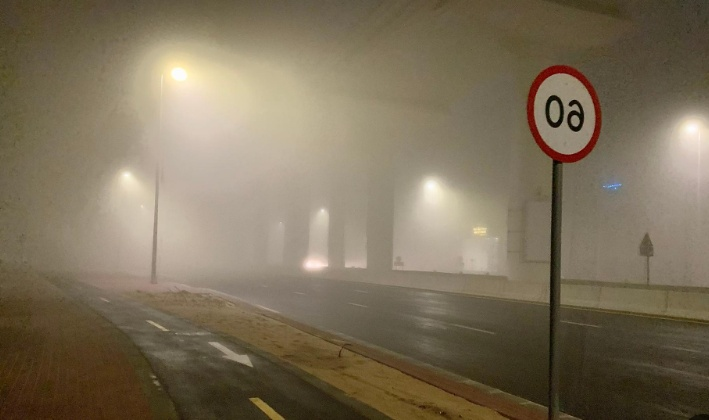Speed limit: (522, 56, 604, 168)
